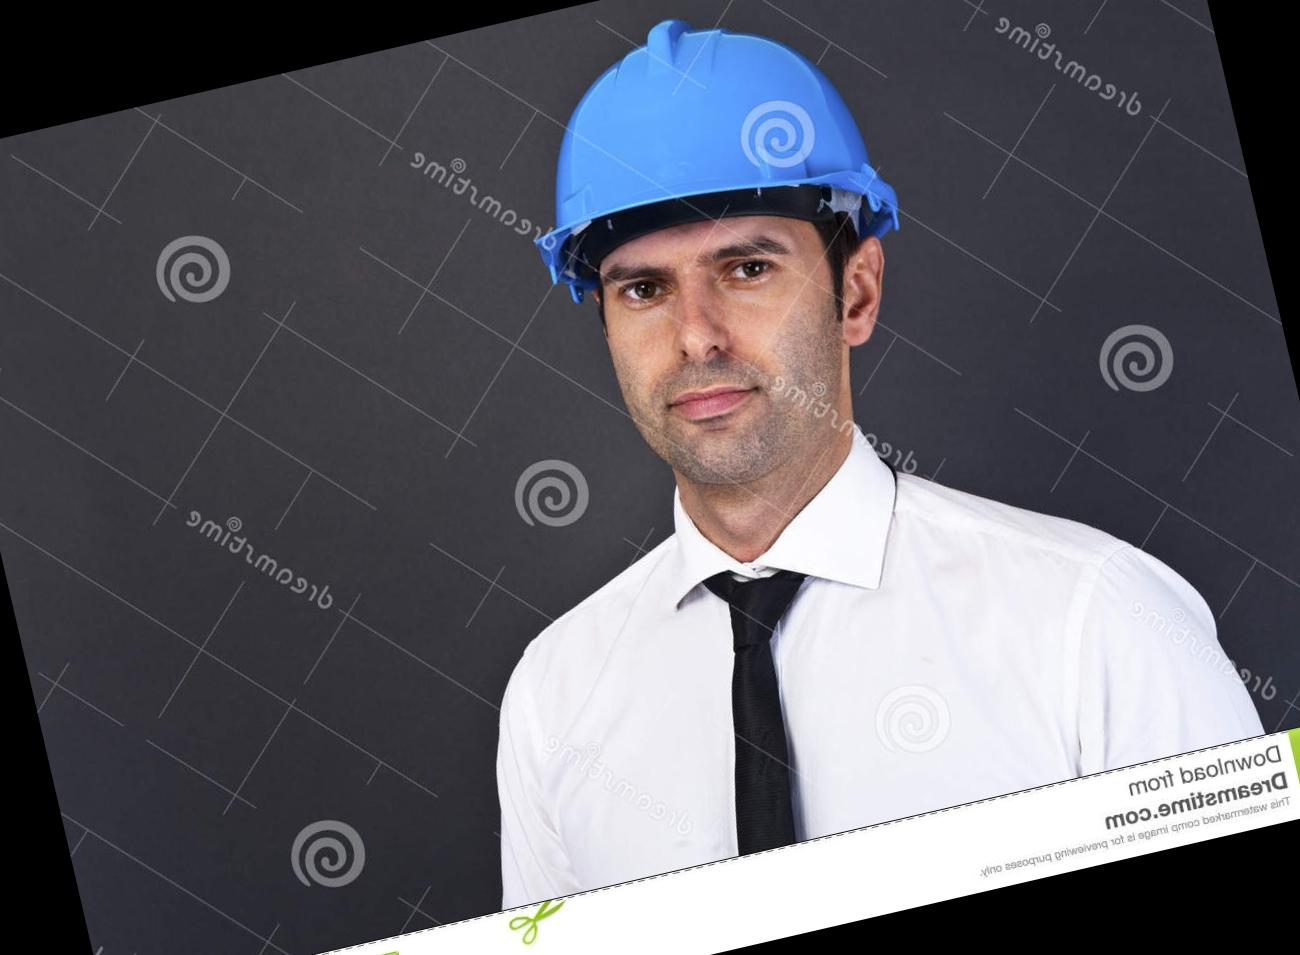helmet: (493, 0, 904, 315)
no_wear: (426, 422, 1264, 908)
